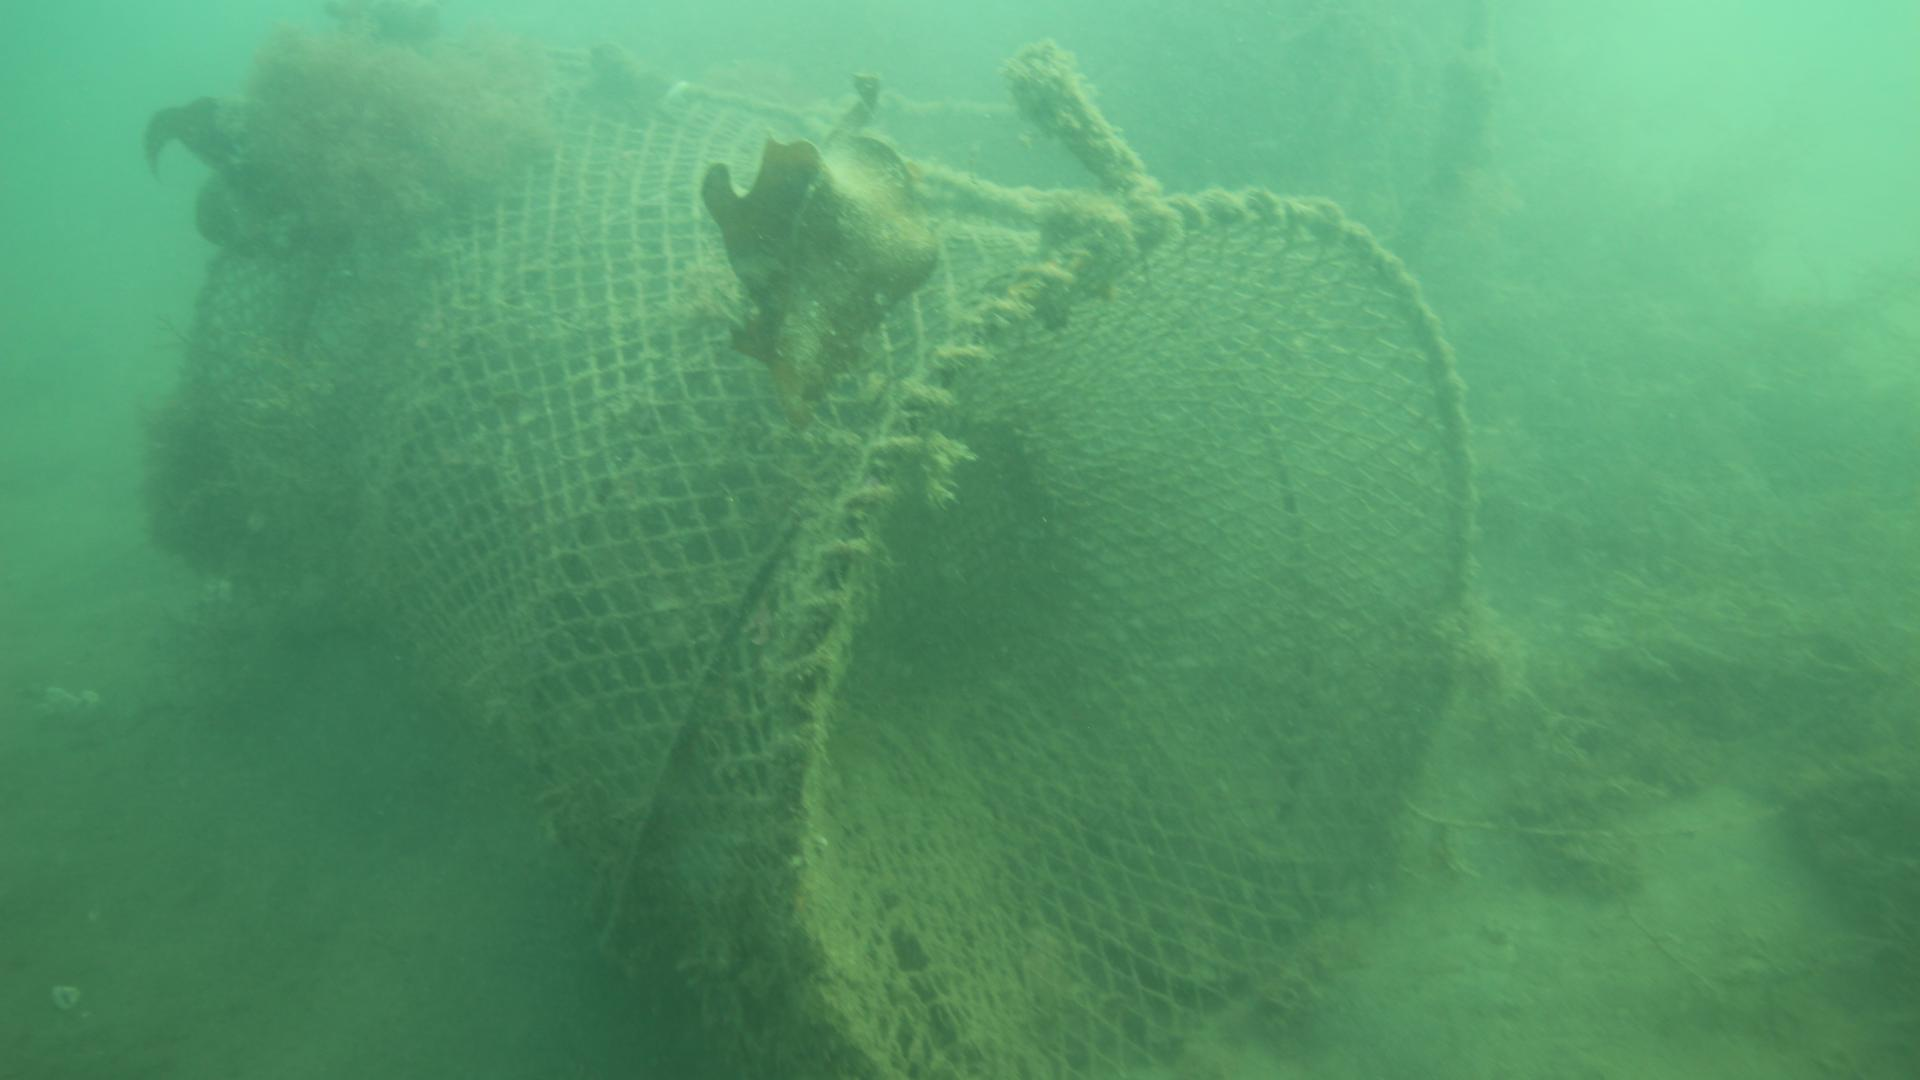spring fish trap: (178, 46, 1477, 1080)
